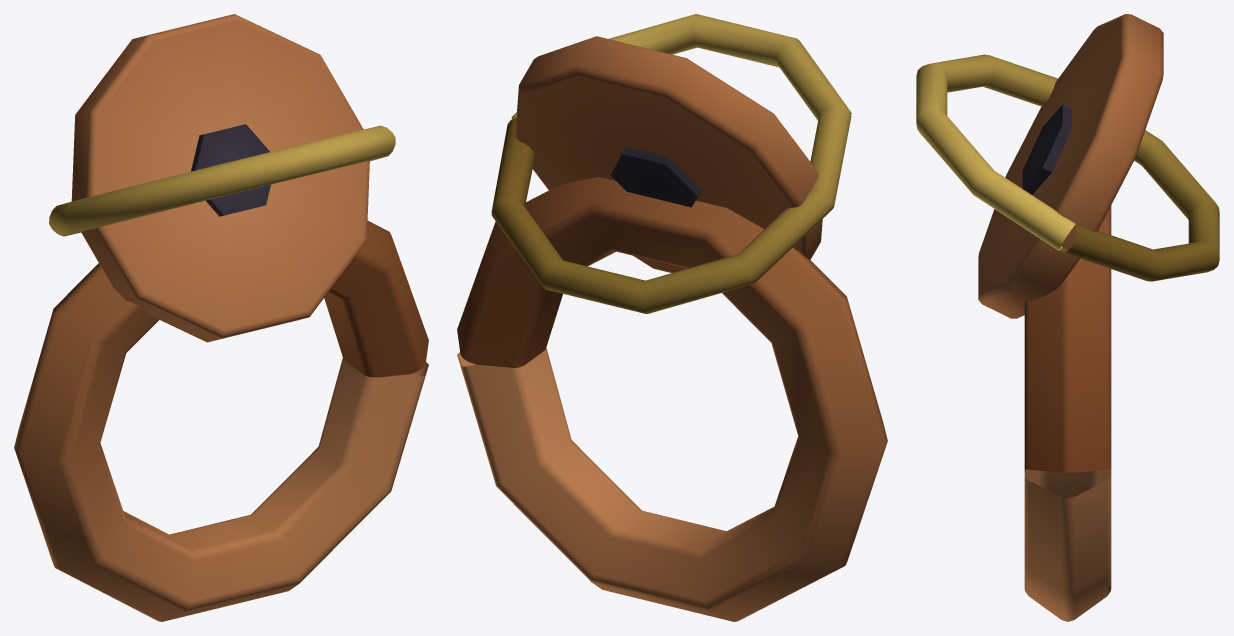
File: lg_toll_ring.glb
3 renders of one model, left to right at view 1: azimuth 30°, elevation 25°; view 2: azimuth 150°, elevation 25°; view 3: azimuth 270°, elevation 25°, orthographic. The views are drawn at different scales.
Parts seen in each view (by area): view 1: lg_toll_ring, lg_toll_ring_trim; view 2: lg_toll_ring, lg_toll_ring_trim; view 3: lg_toll_ring, lg_toll_ring_trim.
Part boxes in pixels (x1,y1,x2,y2): lg_toll_ring: (14, 14, 428, 621); lg_toll_ring_trim: (191, 124, 270, 216); lg_toll_ring: (457, 14, 887, 621); lg_toll_ring_trim: (610, 147, 700, 207); lg_toll_ring: (916, 14, 1219, 621); lg_toll_ring_trim: (1022, 104, 1071, 194).
Bounding box in the file's own units: 0.4921 × 0.6378 × 0.3155.
